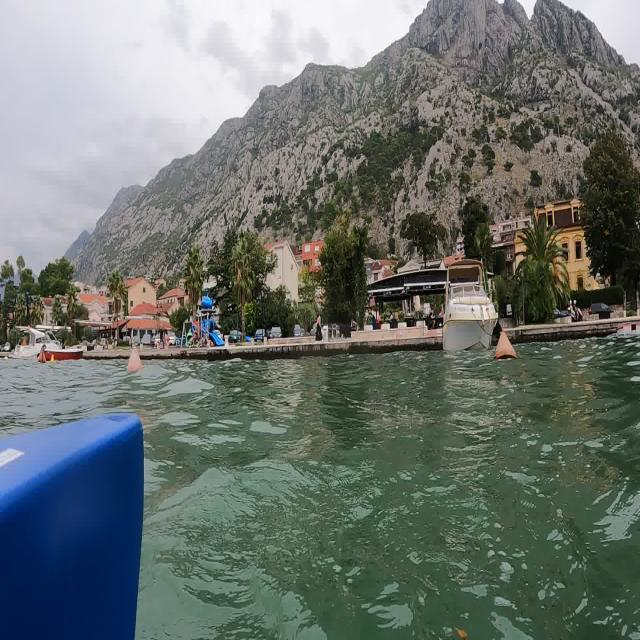boat: (439, 254, 498, 354), (10, 316, 89, 372)
buoy: (120, 343, 148, 391), (492, 323, 520, 366)
